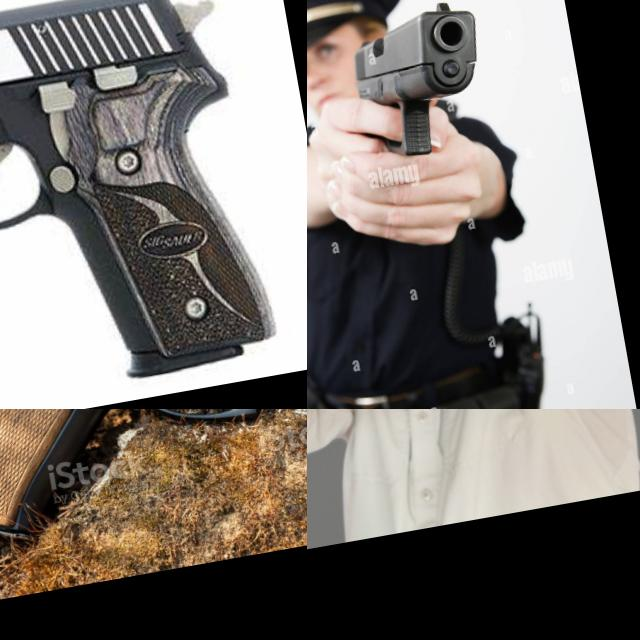handgun: (0, 0, 299, 409), (0, 409, 307, 624), (341, 0, 502, 170), (307, 409, 379, 470)
